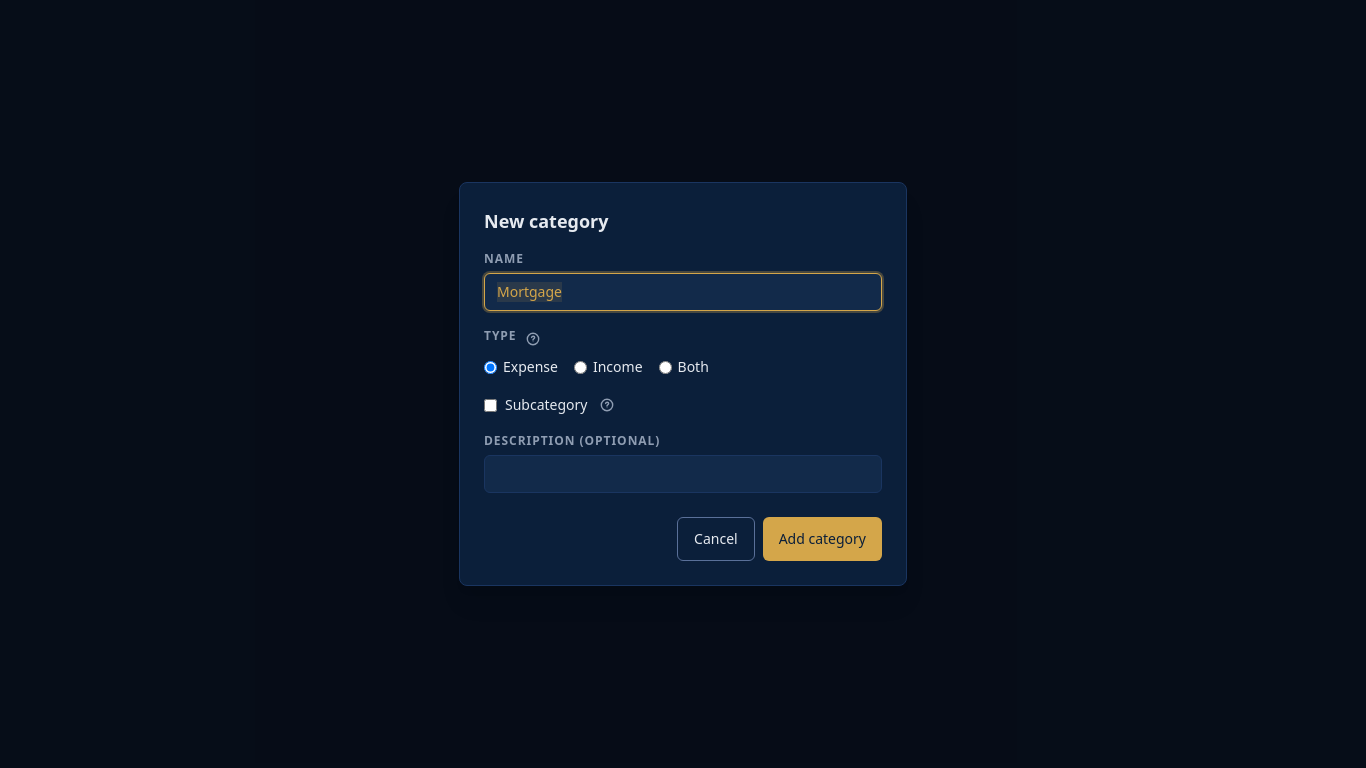
it: AddCategoryModal › disables Add category and shows hint when subcategory is checked but no parent picked
Check: the button "Add category" is enabled, box [763,517,882,561]
Click the checkbox labelled "Subcategory". click: (490, 405)
box: [484,398,497,412]
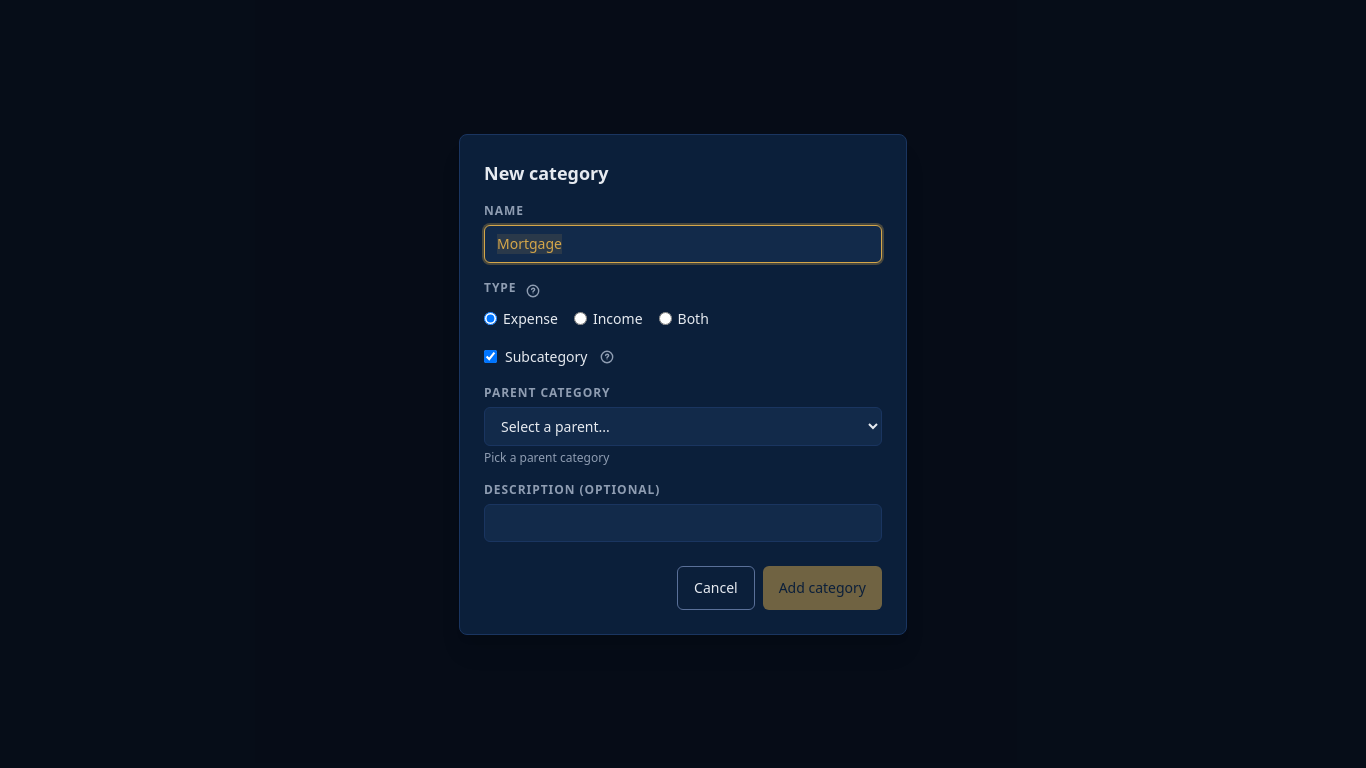
Check: the button "Add category" is disabled, box [763,566,882,610]
Check: the text "Pick a parent category" is shown, box [484,448,609,466]
// Selecting a parent re-enables submit and removes the hint.
Select "Housing" in the dropdown labelled "Parent category". click: (683, 426)
box: [484,406,882,446]
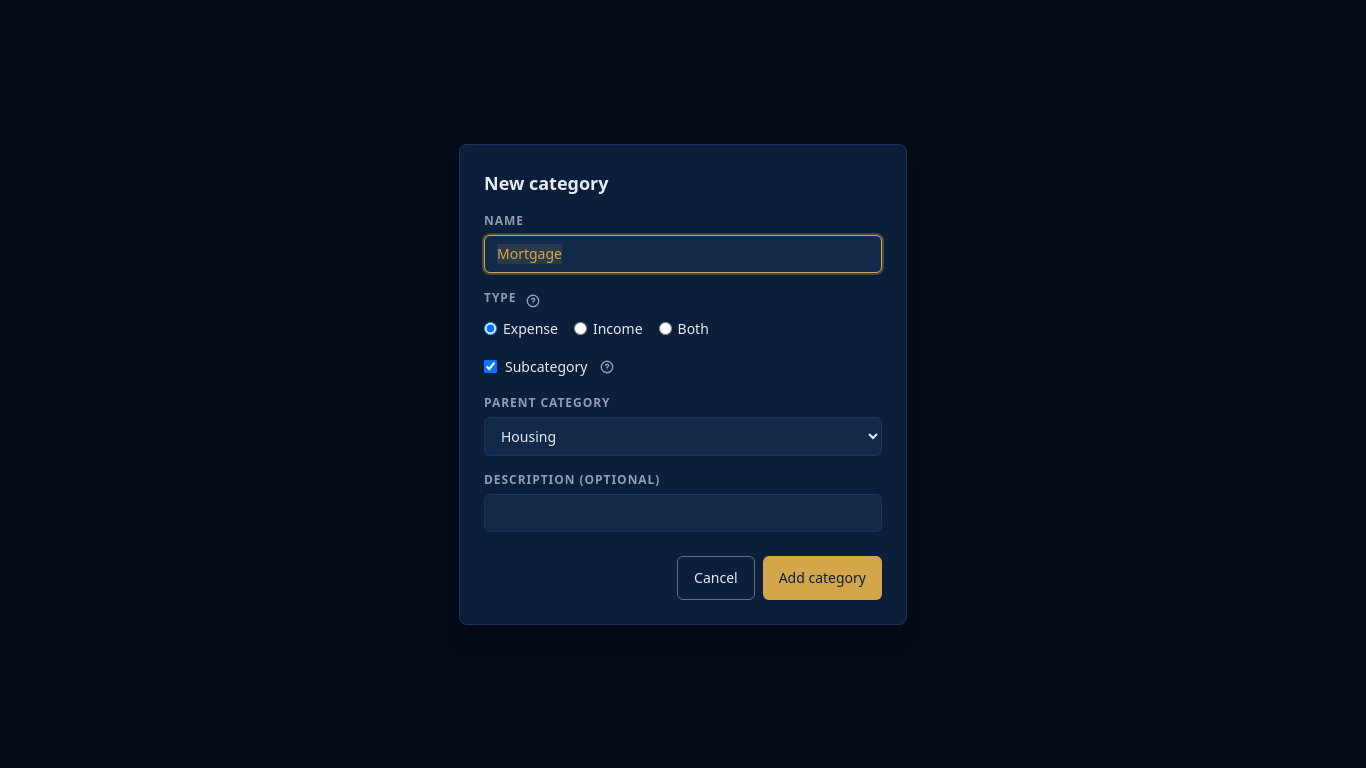
Check: the button "Add category" is enabled, box [763,556,882,600]
Check: the text "Pick a parent category" is gone
